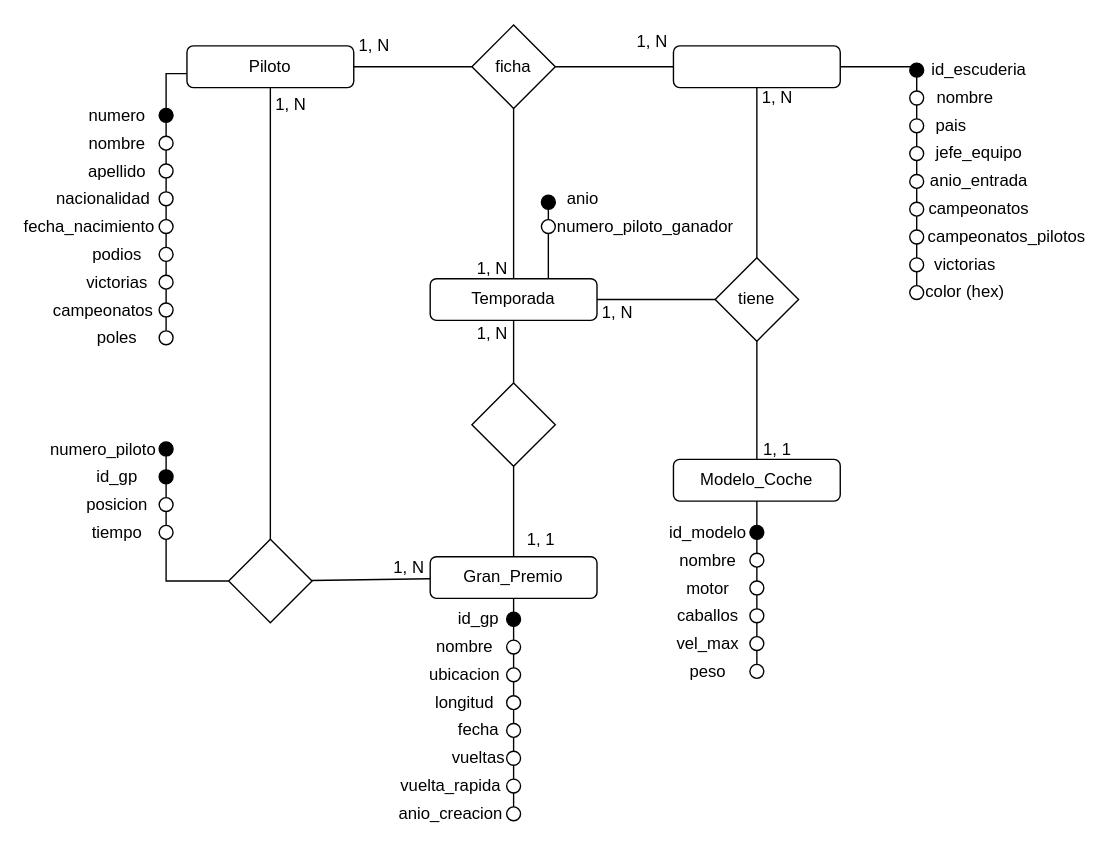
Some shapes in this 1109 by 848 pixel diagram are drawn without their labels. Each missing label, with the box of its shape:
conforma: (471, 382, 555, 466)
Escuderia: (672, 44, 840, 88)
participa: (227, 538, 312, 623)
